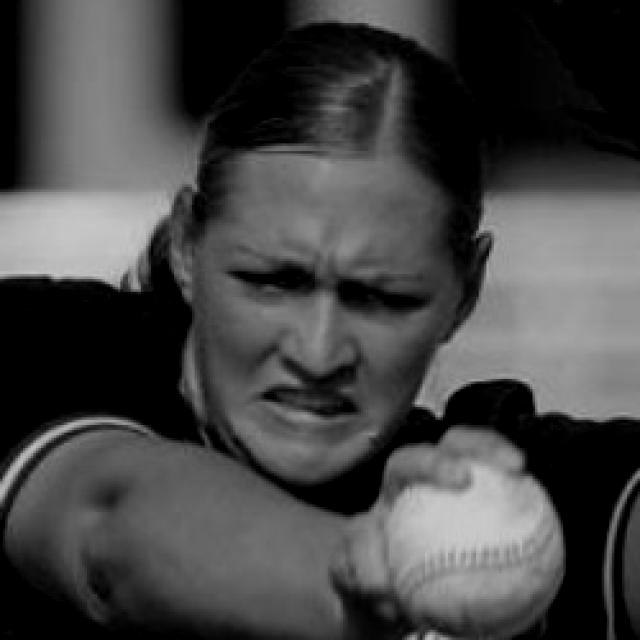real: (156, 45, 504, 480), (234, 249, 432, 319)
